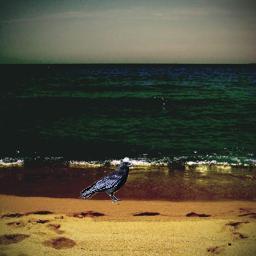Crow: (78, 160, 135, 204)
